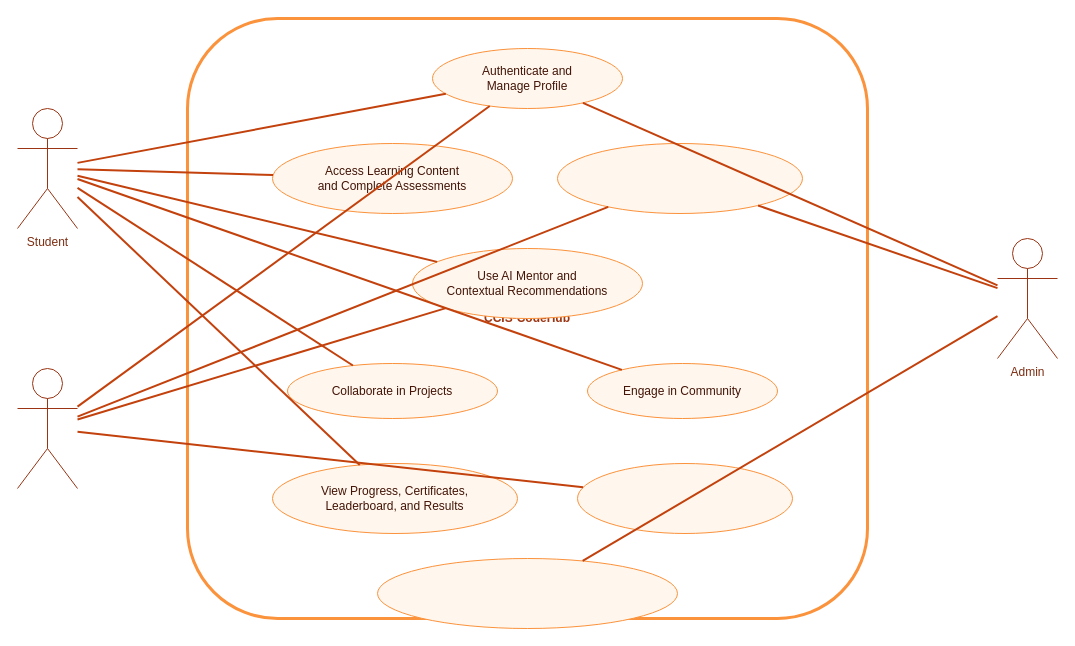
Some shapes in this 1075 by 646 pixel diagram are drawn without their labels. The box of each missing label's shape, as (x1, y1, x2, y2) in pixels:
Instructor: (16, 368, 78, 488)
Manage Learning Content and Academic Activities: (556, 142, 802, 214)
Manage Users, Content Moderation, System Settings, and Platform Analytics: (376, 558, 678, 628)
Monitor Students and Quiz Analytics: (576, 462, 792, 534)
